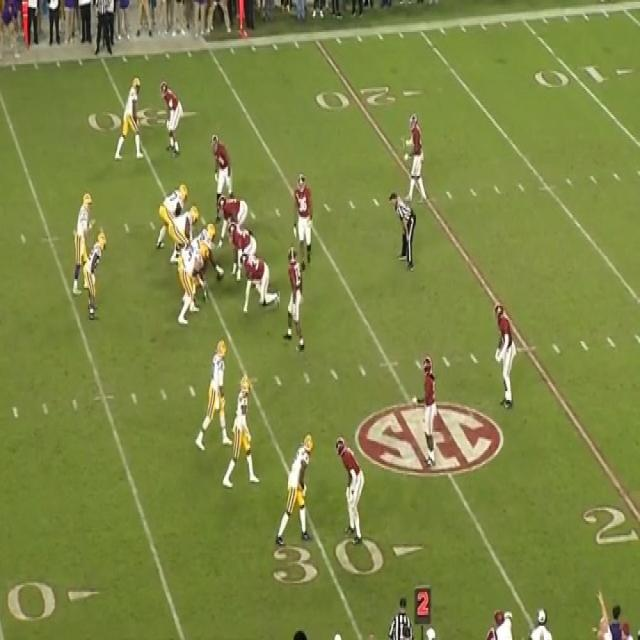center: (206, 220, 225, 286)
db: (335, 436, 363, 538), (492, 306, 518, 414), (404, 114, 427, 201), (160, 82, 183, 154)
lb: (413, 353, 443, 465), (292, 172, 316, 268), (288, 249, 303, 347), (209, 137, 232, 190)
qb: (75, 188, 94, 297)
